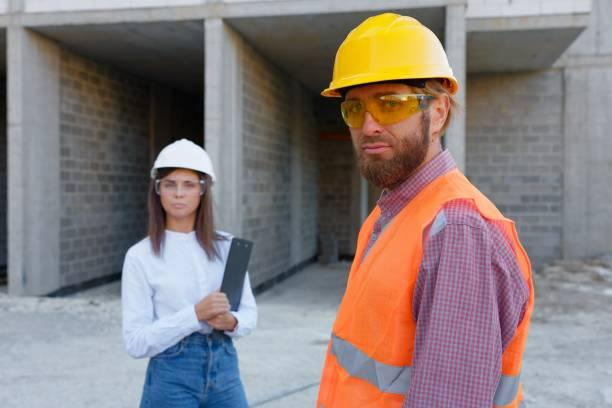goggle: (332, 88, 442, 139)
helmet: (305, 0, 464, 108)
vest: (311, 161, 551, 408)
